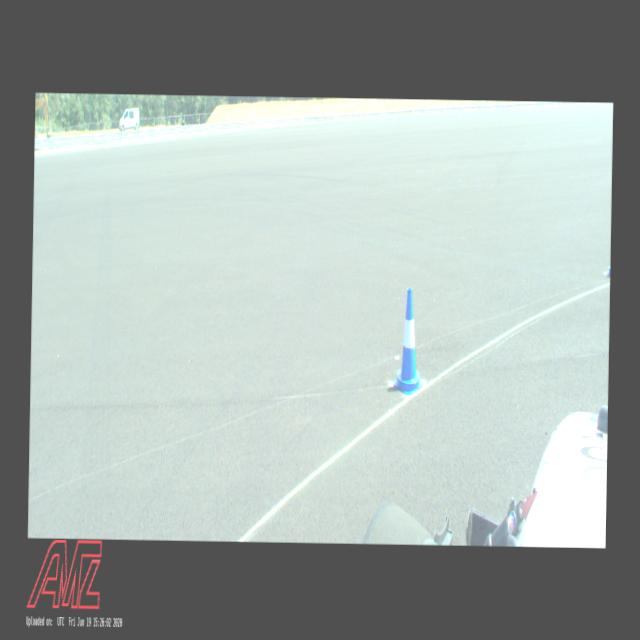blue_cone: (393, 288, 424, 392)
